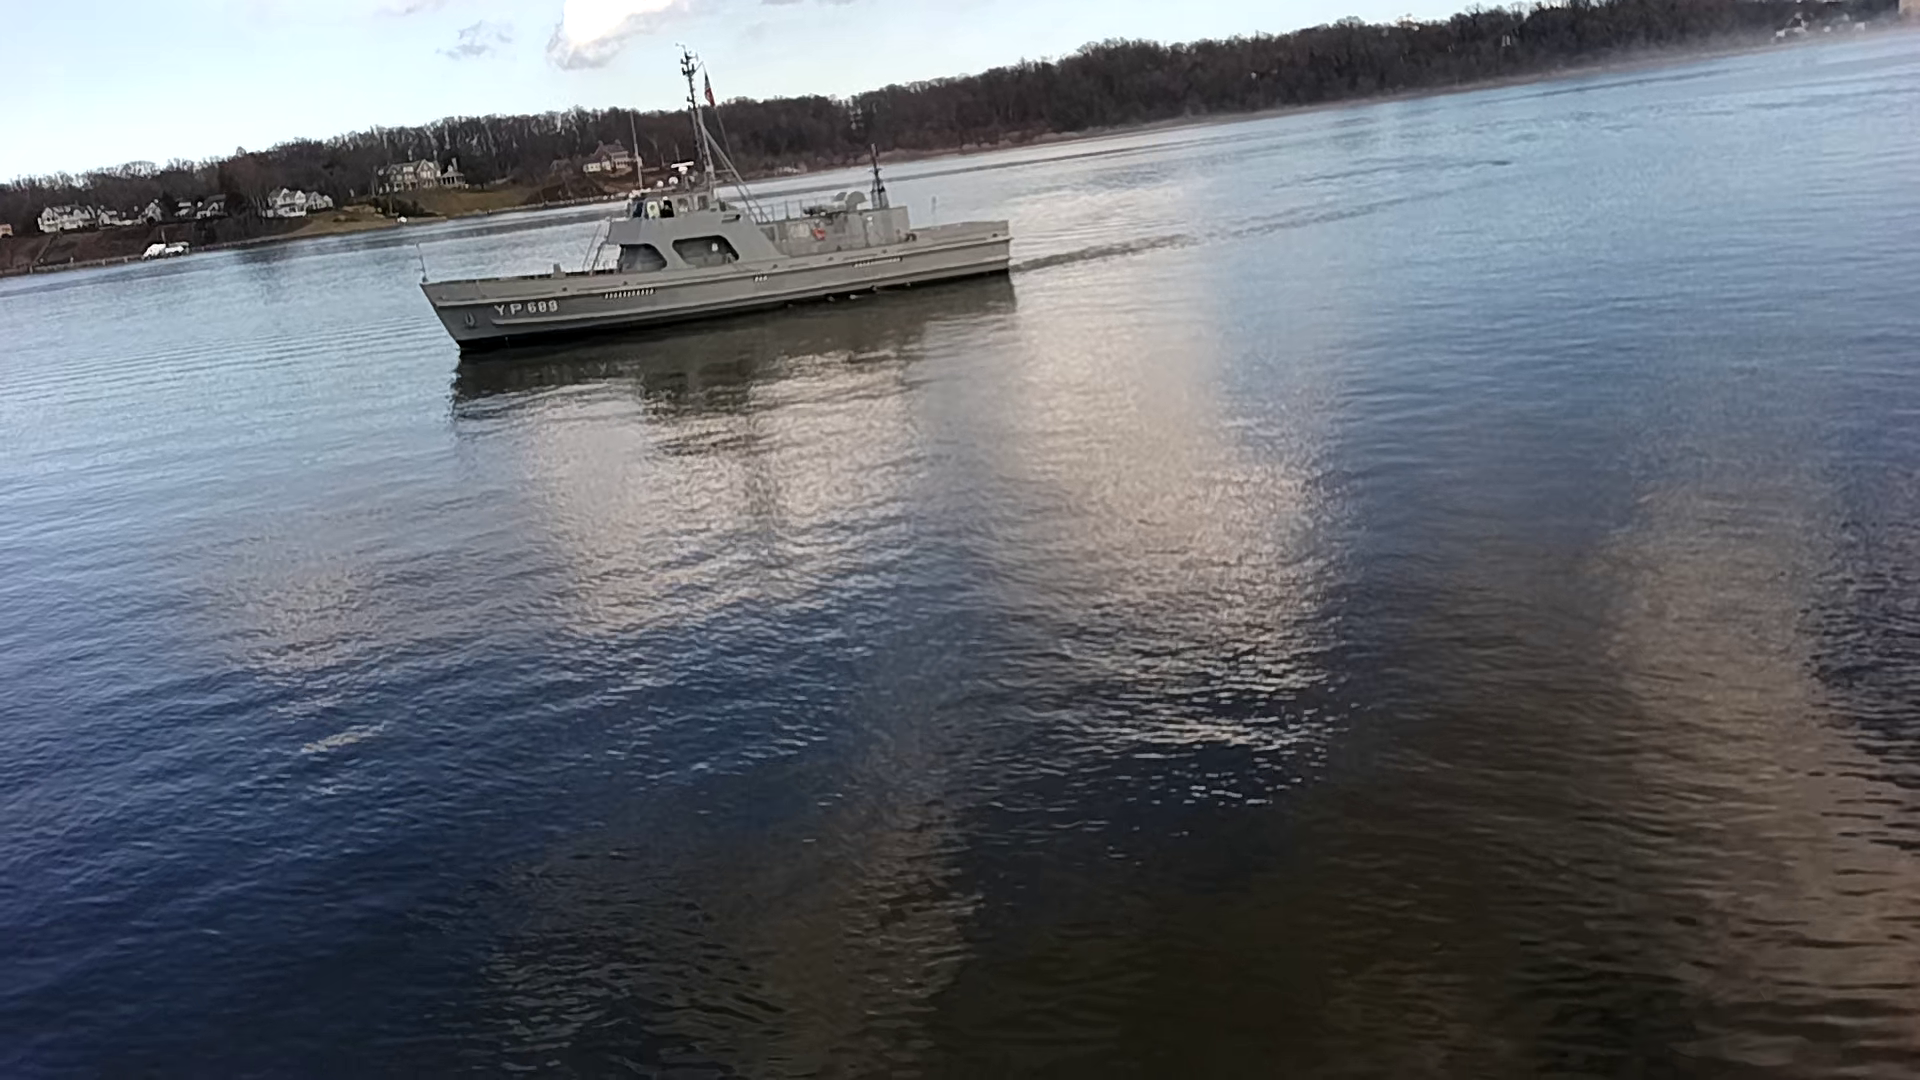YP689: (417, 50, 1013, 353)
